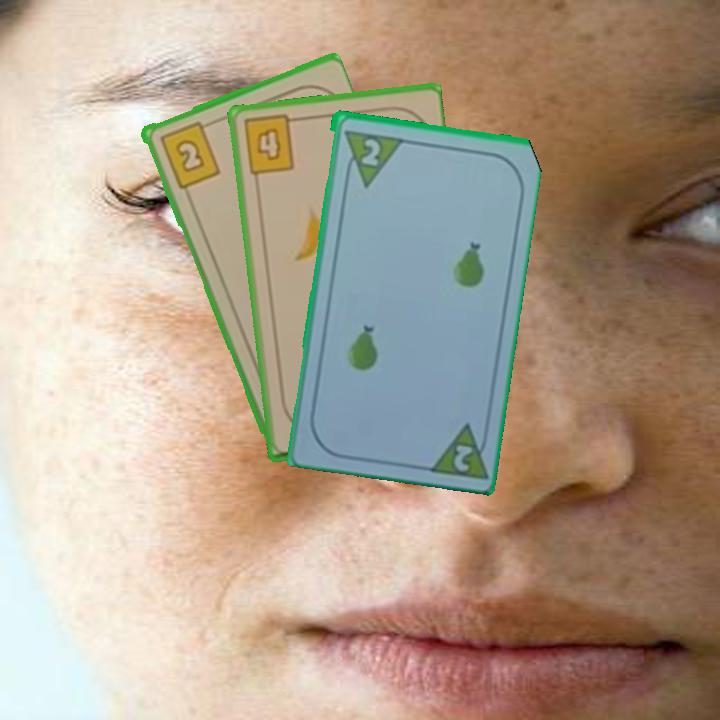2b: (155, 118, 223, 191)
2p: (422, 418, 491, 480), (340, 126, 403, 189)
4b: (239, 111, 302, 177)
